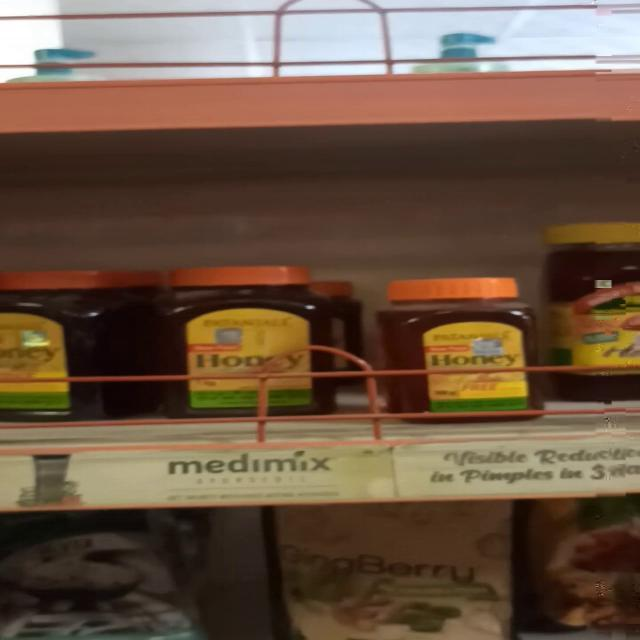Patanjali Honey: (172, 263, 332, 422), (382, 272, 542, 422)
